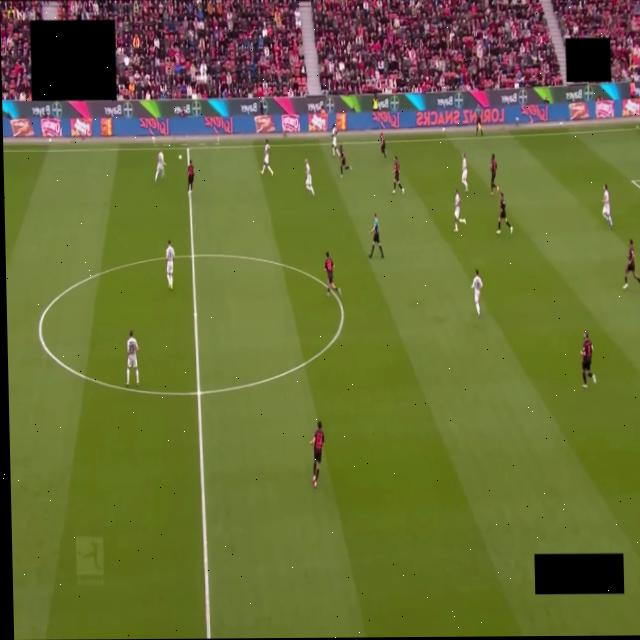ball: (178, 155, 181, 159)
player: (622, 239, 639, 289), (310, 422, 323, 487), (581, 332, 596, 388), (324, 252, 340, 296), (496, 192, 512, 234), (126, 331, 138, 387), (470, 269, 481, 317), (454, 189, 465, 232), (260, 141, 272, 177), (602, 185, 612, 228), (392, 156, 403, 194), (339, 145, 351, 178), (166, 240, 174, 289), (490, 154, 498, 195), (155, 151, 165, 182), (305, 159, 313, 196), (331, 126, 339, 157), (461, 154, 467, 191), (187, 160, 193, 195), (380, 133, 386, 158)
referee: (369, 213, 383, 258)
